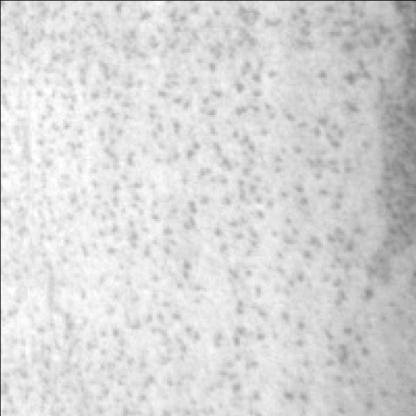pitted_surface: (6, 2, 379, 416), (352, 4, 414, 306)
